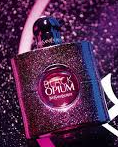ysl_black_opium: (10, 15, 109, 134)
